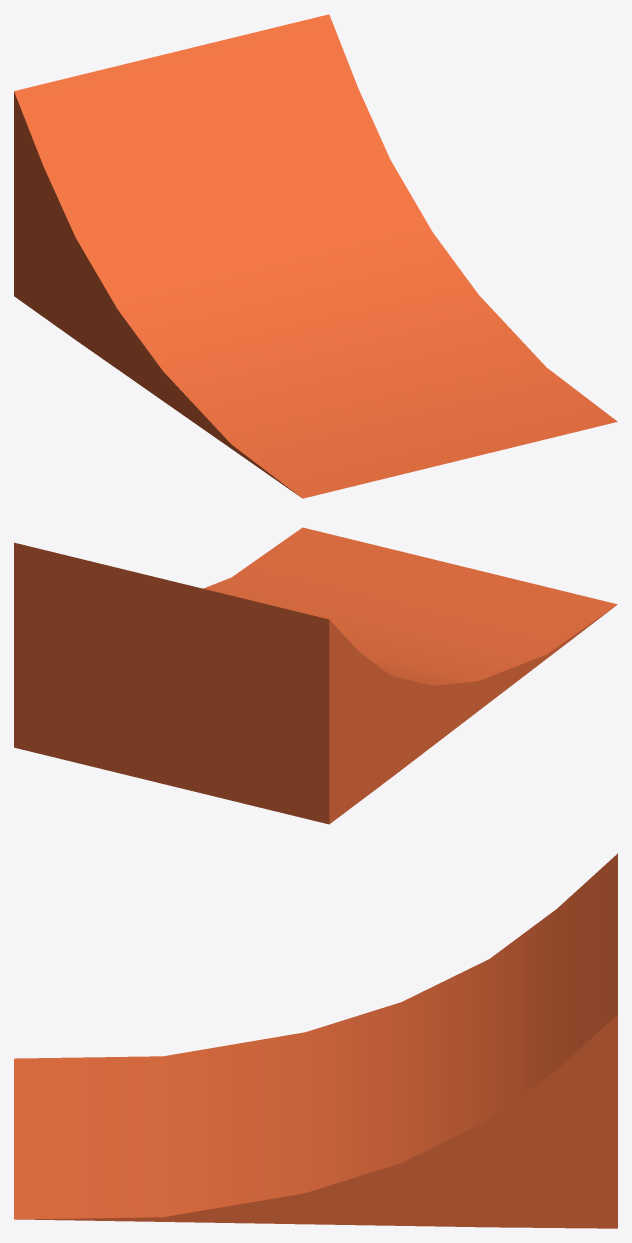
The model's file is ramp3fbx.fbx.
3 renders of one model, top to bottom at view 1: azimuth 30°, elevation 25°; view 2: azimuth 150°, elevation 25°; view 3: azimuth 270°, elevation 25°, orthographic. The views are drawn at different scales.
Parts seen in each view (by area): view 1: pPlane2; view 2: pPlane2; view 3: pPlane2.
Part boxes in pixels (box(x1,y1,x2,y2)): pPlane2: box(14, 14, 617, 498); pPlane2: box(14, 527, 617, 824); pPlane2: box(14, 853, 617, 1228).
Size of the model in its own units: 3.25 by 2.02 by 5.16.
